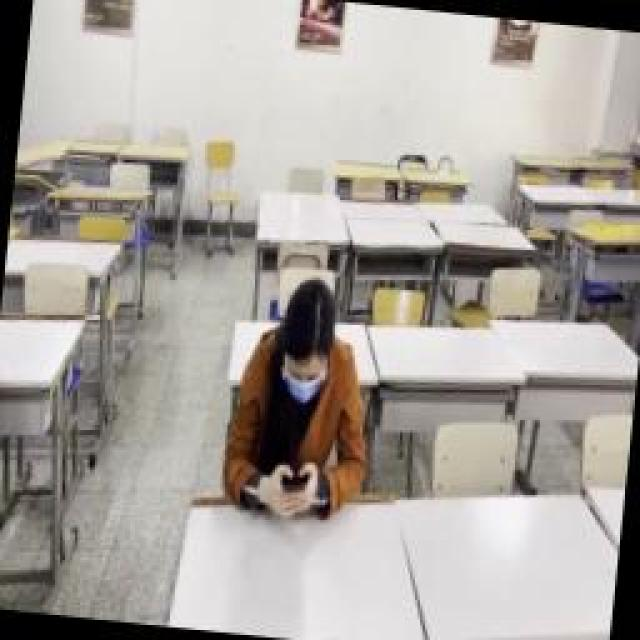phone: (218, 275, 382, 523)
